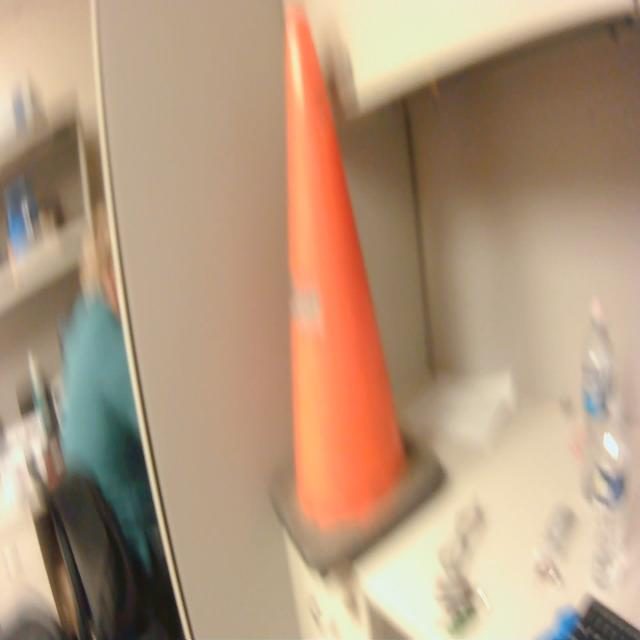traffic cone: (259, 2, 454, 580)
